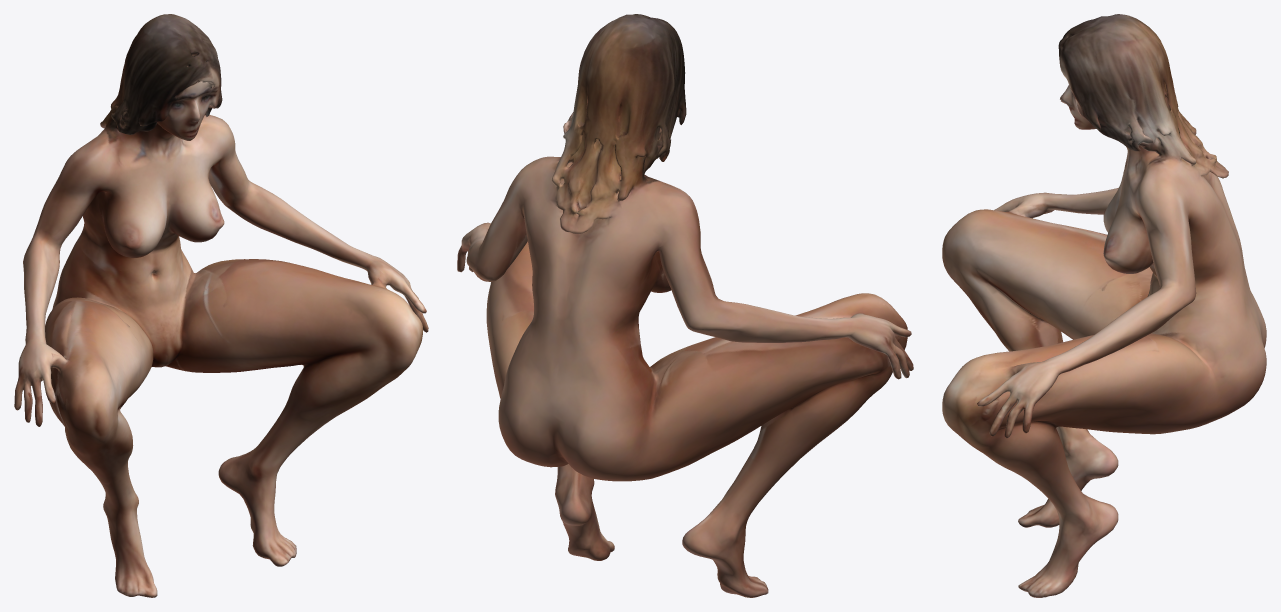
File: wom7.glb
3 renders of one model, left to right at view 1: azimuth 30°, elevation 25°; view 2: azimuth 150°, elevation 25°; view 3: azimuth 270°, elevation 25°, orthographic. The views are drawn at different scales.
Bounding box in the file's own units: 1.58 × 2 × 1.09.
1 material, 1 textured.
